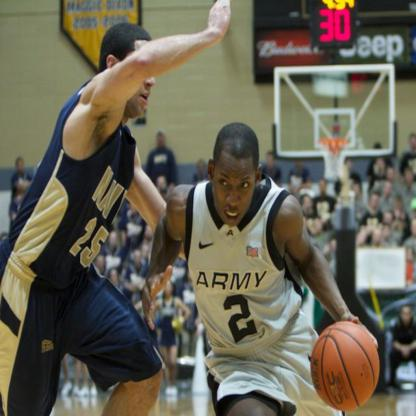Ball: (311, 325, 378, 412)
